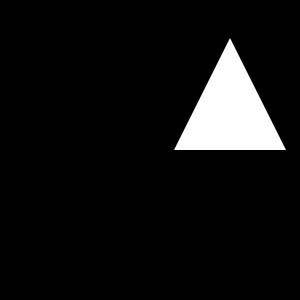triangle: (174, 38, 286, 150)
